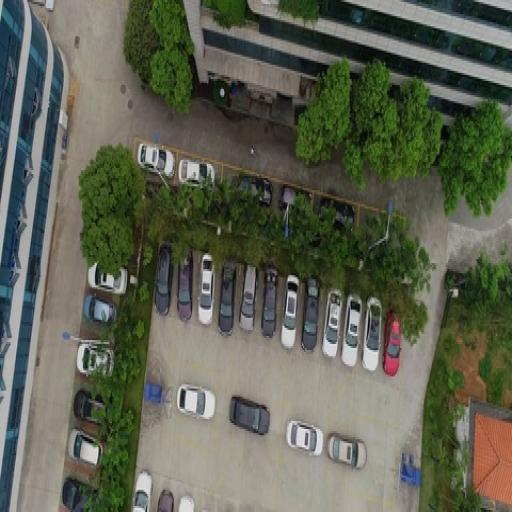Illegal-parking: (173, 369, 222, 438), (234, 378, 274, 461), (288, 389, 325, 477), (331, 409, 369, 481)
